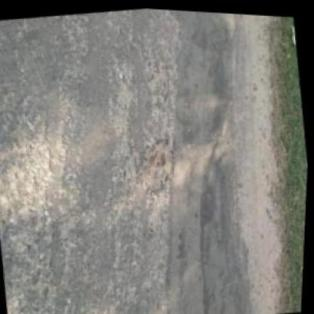Hueco: (135, 132, 184, 196)
